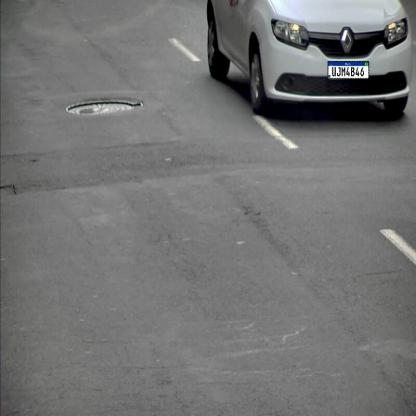PlacaM: (328, 61, 369, 79)
